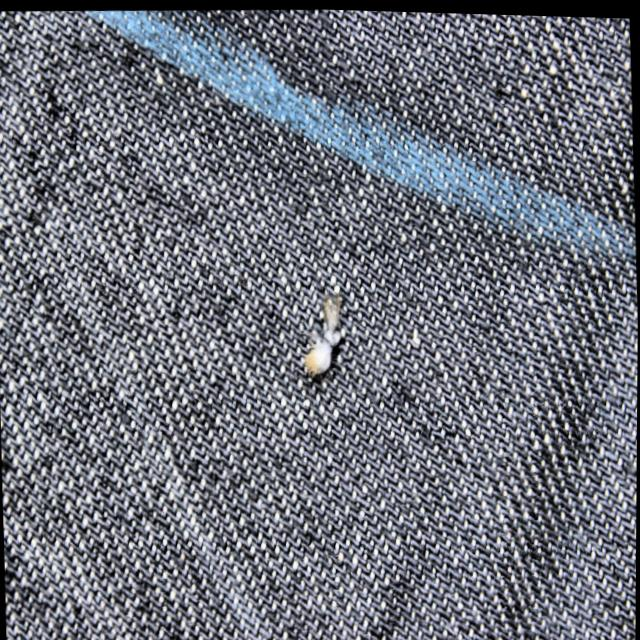Stitch: (284, 262, 357, 381)
